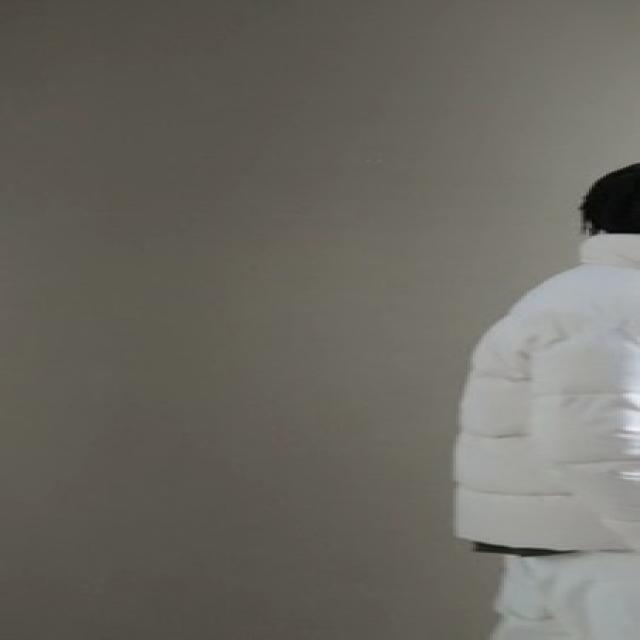Jacket_Wearer: (460, 238, 640, 548)
Person: (391, 162, 640, 630)
